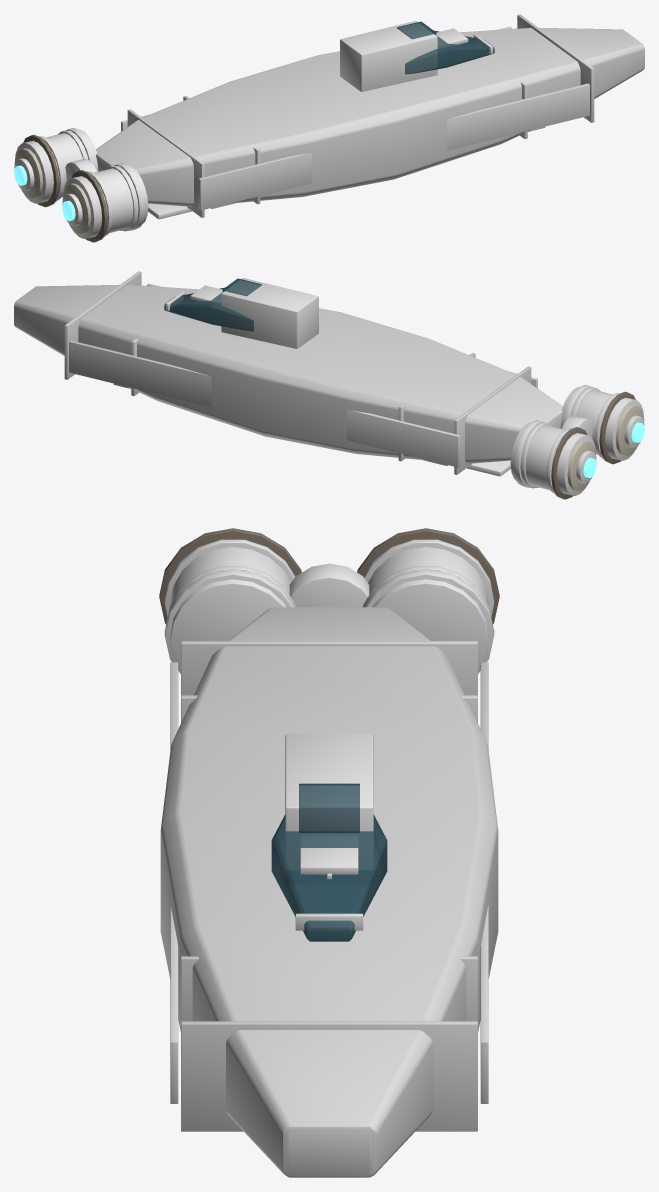
The model's file is ashline_lode_production_v1_lod2.glb.
3 views of the same model, one above another, from view 1: azimuth 30°, elevation 25°; view 2: azimuth 150°, elevation 25°; view 3: azimuth 270°, elevation 25° (orthographic). The views are drawn at different scales.
Visible parts, largest first — view 1: LOD2_Hull, LOD2_Armor, LOD2_Mechanical, LOD2_Canopy, LOD2_Ceramic, LOD2_Radiator, LOD2_Thruster; view 2: LOD2_Hull, LOD2_Armor, LOD2_Mechanical, LOD2_Canopy, LOD2_Ceramic, LOD2_Radiator, LOD2_Thruster; view 3: LOD2_Hull, LOD2_Armor, LOD2_Mechanical, LOD2_Canopy, LOD2_Radiator.
Boxes of the visible parts, x1,y1,x2,y2 form: LOD2_Hull: (96, 14, 644, 217); LOD2_Armor: (39, 21, 493, 237); LOD2_Mechanical: (14, 129, 191, 238); LOD2_Canopy: (397, 21, 494, 74); LOD2_Ceramic: (14, 148, 91, 234); LOD2_Radiator: (23, 134, 107, 242); LOD2_Thruster: (14, 165, 75, 221); LOD2_Hull: (14, 271, 562, 474); LOD2_Armor: (165, 278, 619, 494); LOD2_Mechanical: (467, 386, 644, 495); LOD2_Canopy: (164, 278, 261, 331); LOD2_Ceramic: (567, 405, 644, 491); LOD2_Radiator: (551, 391, 635, 499); LOD2_Thruster: (583, 422, 644, 478); LOD2_Hull: (160, 607, 498, 1177); LOD2_Armor: (164, 539, 494, 930); LOD2_Mechanical: (170, 547, 488, 670); LOD2_Canopy: (271, 783, 387, 941); LOD2_Radiator: (159, 528, 499, 624).
Size of what is drawn, in the model's own units: 16.98 by 3.18 by 4.24.
